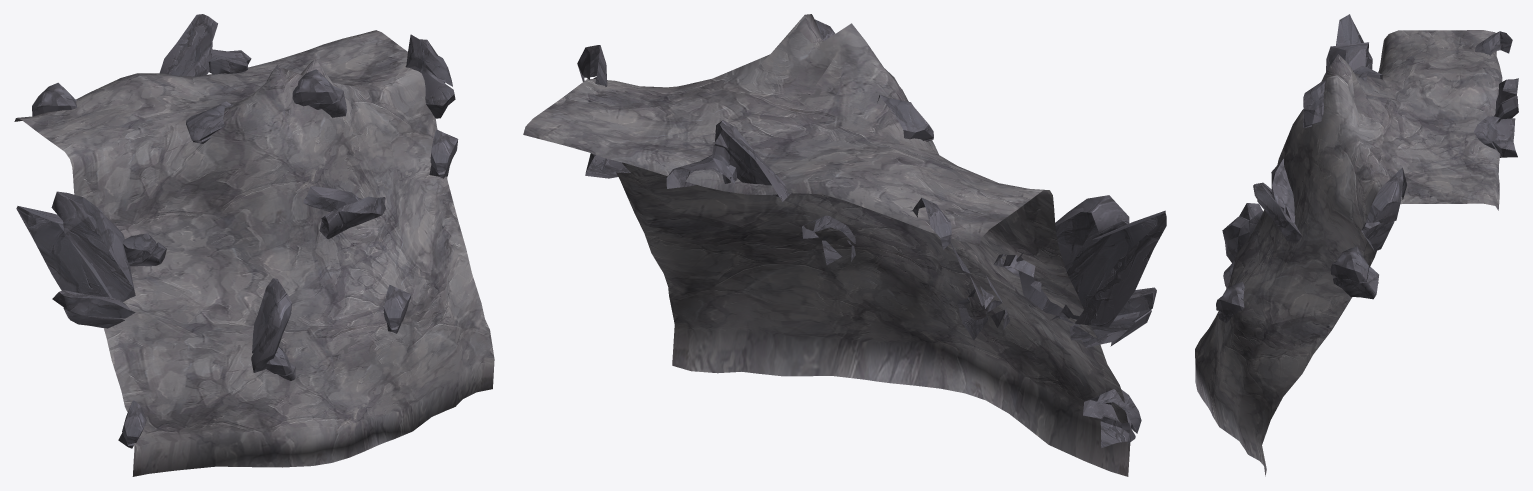
Rendered from Ground wide 1.fbx.
3 views of the same model, side by side, from view 1: azimuth 30°, elevation 25°; view 2: azimuth 150°, elevation 25°; view 3: azimuth 270°, elevation 25° (orthographic). The views are drawn at different scales.
Visible parts, largest first — view 1: GroundWide1; view 2: GroundWide1; view 3: GroundWide1.
Part boxes in pixels (x1,y1,x2,y2): GroundWide1: [14, 14, 494, 476]; GroundWide1: [523, 14, 1166, 476]; GroundWide1: [1195, 14, 1518, 476].
Size of the model in its own units: 12.43 by 9.05 by 7.88.
